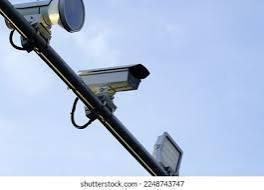Speed-Camera: (71, 47, 197, 176), (13, 0, 89, 38)
